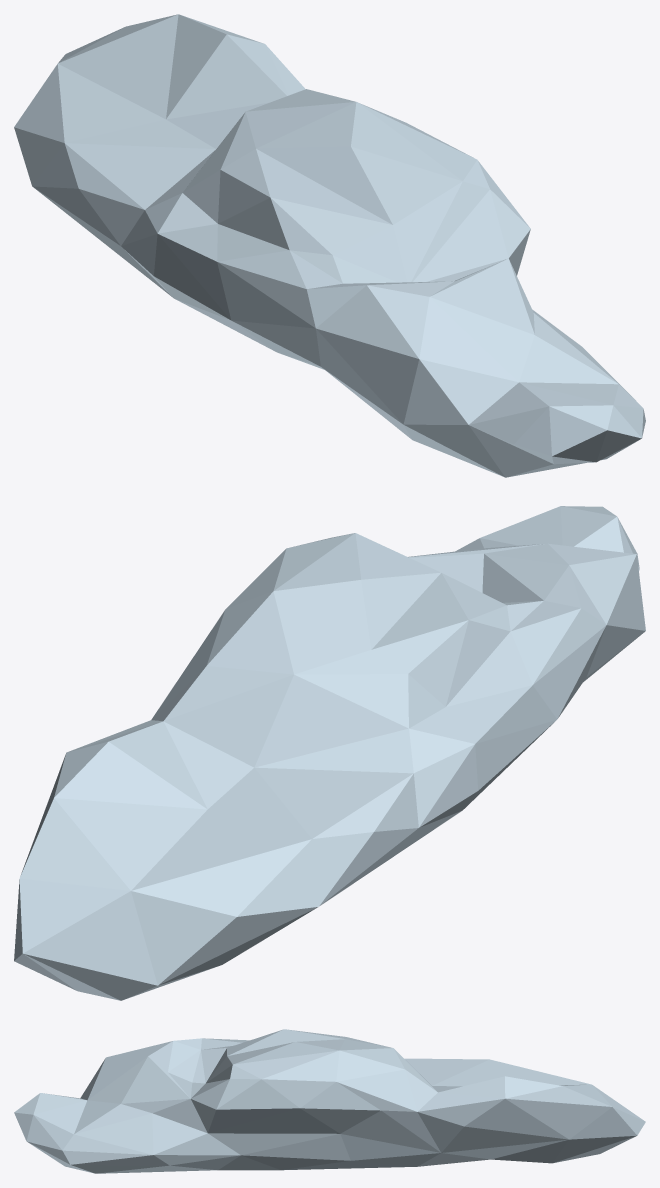
The model's file is Cloud_03.fbx.
3 views of the same model, one above another, from view 1: azimuth 30°, elevation 25°; view 2: azimuth 150°, elevation 25°; view 3: azimuth 270°, elevation 25° (orthographic). The views are drawn at different scales.
Visible parts, largest first — view 1: Cloud_03; view 2: Cloud_03; view 3: Cloud_03.
Boxes of the visible parts, bbox=[...] form: Cloud_03: bbox=[14, 14, 645, 477]; Cloud_03: bbox=[14, 506, 645, 1000]; Cloud_03: bbox=[14, 1029, 645, 1173].
Size of the model in its own units: 11.26 by 8.77 by 39.62.
